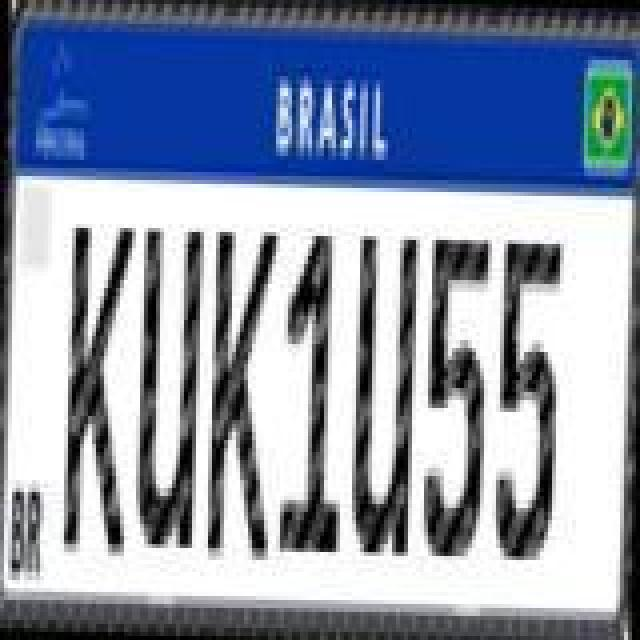1: (274, 228, 350, 556)
5: (420, 234, 492, 566), (492, 234, 564, 566)
K: (62, 220, 138, 556), (206, 226, 282, 558)
U: (348, 232, 420, 560), (132, 230, 204, 554)
